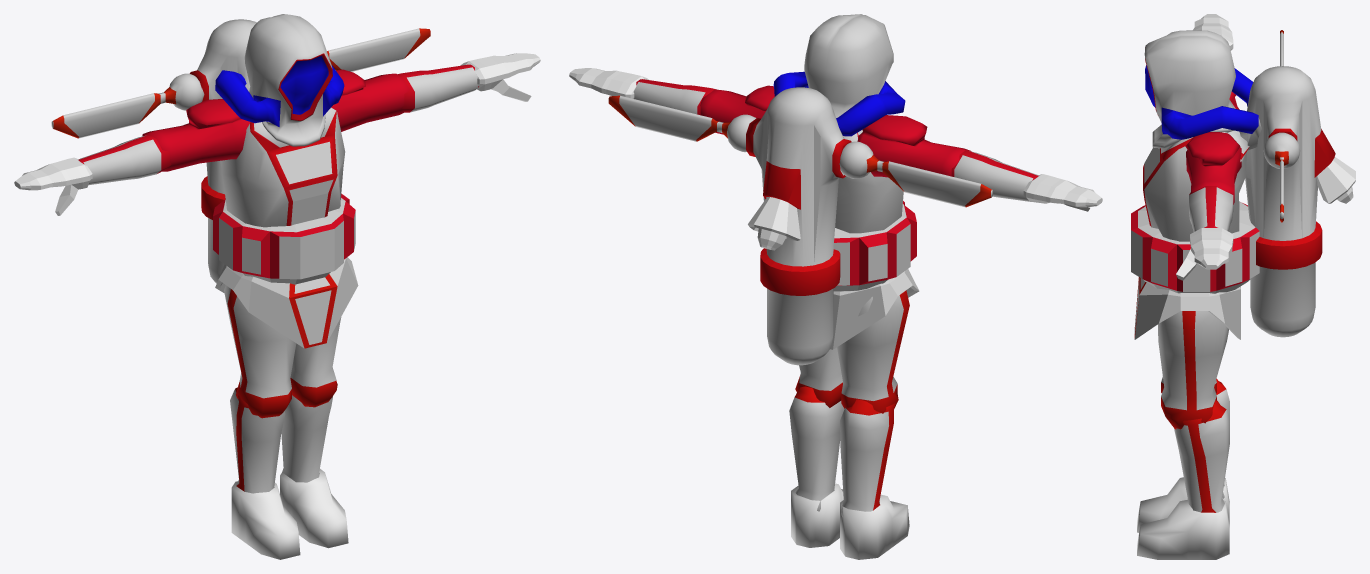
The model's file is Suit_Draft4.fbx.
The picture shows the model from 3 angles, left to right: view 1: azimuth 30°, elevation 25°; view 2: azimuth 150°, elevation 25°; view 3: azimuth 270°, elevation 25°; orthographic projection. The views are drawn at different scales.
Parts seen in each view (by area): view 1: Helmet, Chest, Waist, Hips, RThigh, RUpperArm, TankUnit, RBoot, WingStbd, RCalf, LBoot, LCalf (+7 smaller); view 2: TankUnit, Helmet, RThigh, RCalf, LCalf, Waist, WingStbd, RUpperArm, Chest, WingPort, RBoot, Hips (+8 smaller); view 3: TankUnit, Helmet, LThigh, Waist, Chest, LCalf, LBoot, Hips, LUpperArm, LHand, LForearm, RBoot (+4 smaller).
Part boxes in pixels (bbox=[...]): Helmet: bbox=[215, 14, 344, 146]; Chest: bbox=[220, 107, 345, 227]; Waist: bbox=[213, 193, 355, 284]; Hips: bbox=[215, 257, 358, 348]; RThigh: bbox=[224, 285, 296, 418]; RUpperArm: bbox=[142, 99, 250, 171]; TankUnit: bbox=[189, 19, 256, 283]; RBoot: bbox=[231, 481, 300, 559]; WingStbd: bbox=[51, 73, 204, 138]; RCalf: bbox=[230, 387, 285, 493]; LBoot: bbox=[280, 469, 348, 548]; LCalf: bbox=[281, 395, 332, 482]; TankUnit: bbox=[746, 87, 851, 365]; Helmet: bbox=[773, 14, 905, 136]; RThigh: bbox=[837, 290, 909, 413]; RCalf: bbox=[840, 399, 895, 516]; LCalf: bbox=[789, 386, 844, 511]; Waist: bbox=[833, 201, 916, 291]; WingStbd: bbox=[839, 141, 992, 207]; RUpperArm: bbox=[857, 115, 971, 177]; Chest: bbox=[835, 130, 903, 233]; WingPort: bbox=[608, 95, 756, 152]; RBoot: bbox=[840, 494, 909, 559]; Hips: bbox=[830, 269, 919, 349]; TankUnit: bbox=[1239, 66, 1335, 337]; Helmet: bbox=[1144, 30, 1261, 150]; LThigh: bbox=[1158, 311, 1228, 429]; Waist: bbox=[1131, 201, 1259, 293]; Chest: bbox=[1143, 130, 1249, 241]; LCalf: bbox=[1174, 400, 1229, 512]; LBoot: bbox=[1137, 499, 1229, 559]; Hips: bbox=[1134, 277, 1240, 339]; LUpperArm: bbox=[1185, 132, 1241, 204]; LHand: bbox=[1176, 228, 1233, 280]; LForearm: bbox=[1189, 186, 1233, 231]; RBoot: bbox=[1137, 477, 1229, 532].
Size of the model in its own units: 197 by 184 by 74.52.
